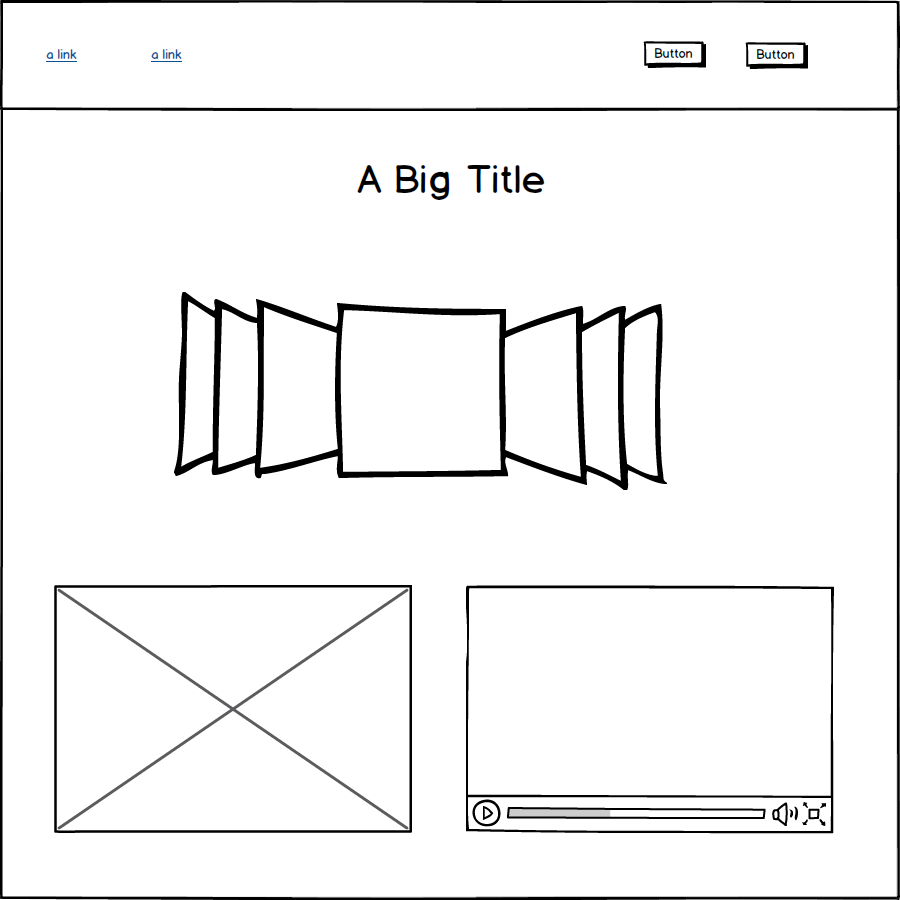button: (638, 36, 712, 74), (741, 34, 813, 73)
h1: (333, 151, 560, 211)
image: (44, 578, 420, 840)
navlink: (137, 33, 192, 66), (34, 38, 89, 69)
slideshow: (164, 281, 686, 501)
video: (456, 581, 842, 840)
